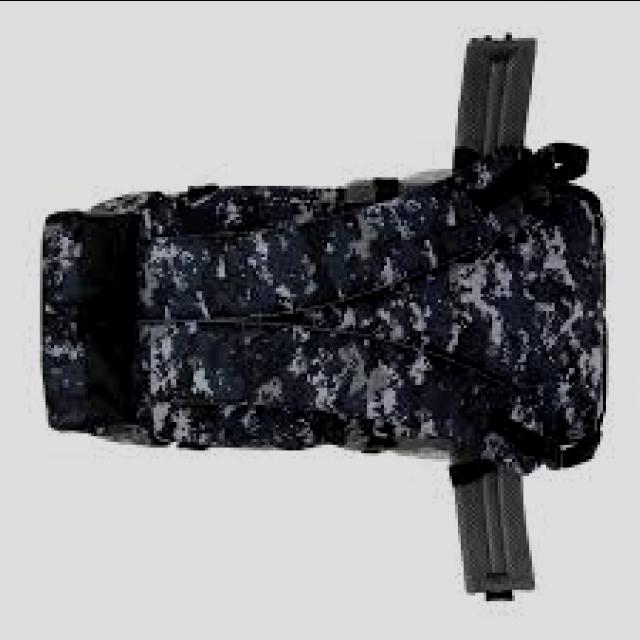backpack: (23, 154, 617, 464)
